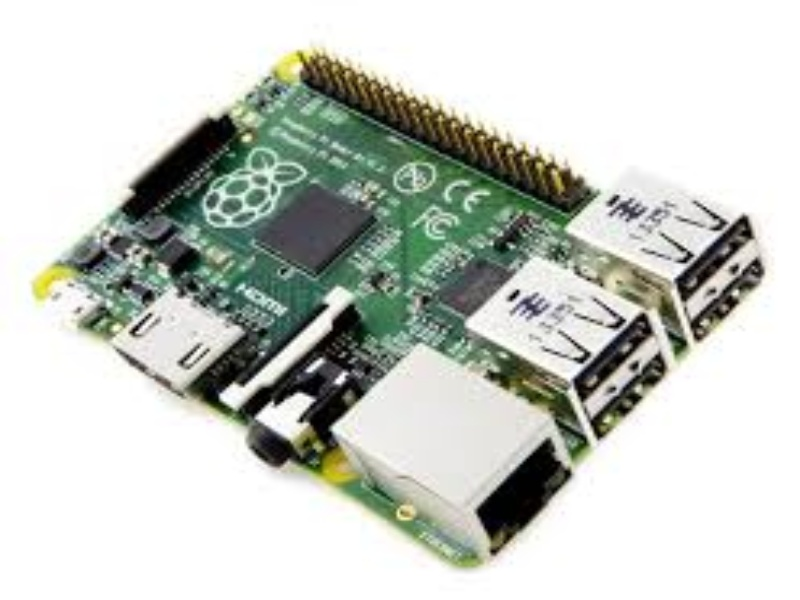raspberrypi: (15, 33, 752, 550)
